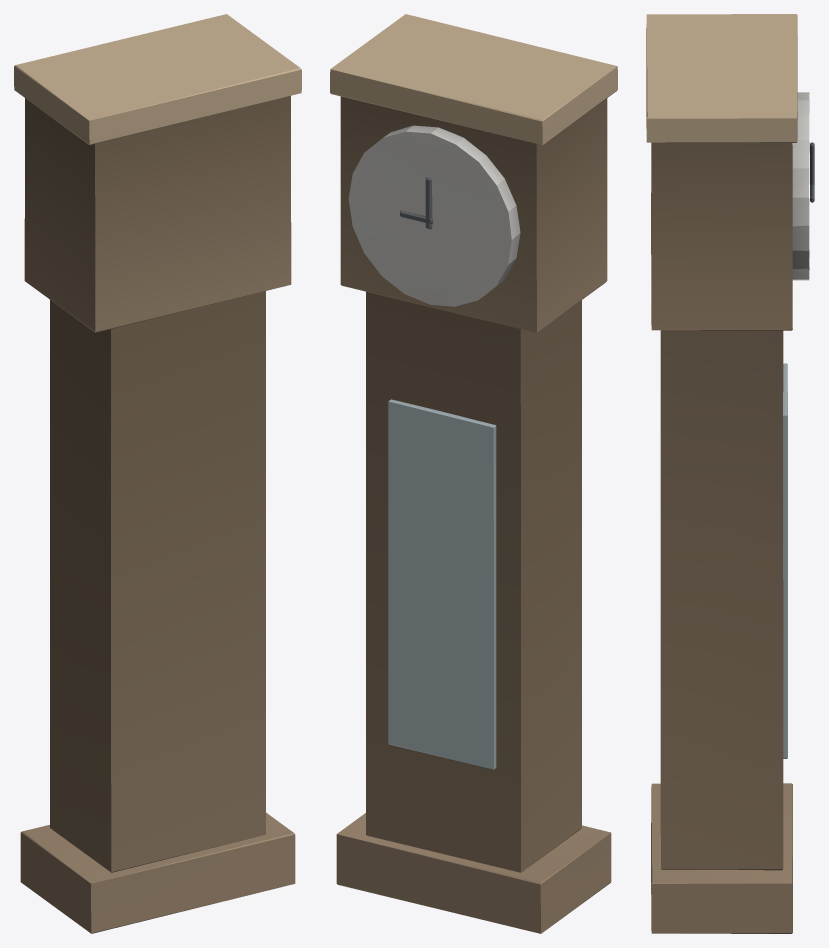
Rendered from furn_tall_clock__walnut_low.glb.
The picture shows the model from 3 angles, left to right: view 1: azimuth 30°, elevation 25°; view 2: azimuth 150°, elevation 25°; view 3: azimuth 270°, elevation 25°; orthographic projection.
Bounding box in the file's own units: 0.5173 × 1.9 × 0.3541.
